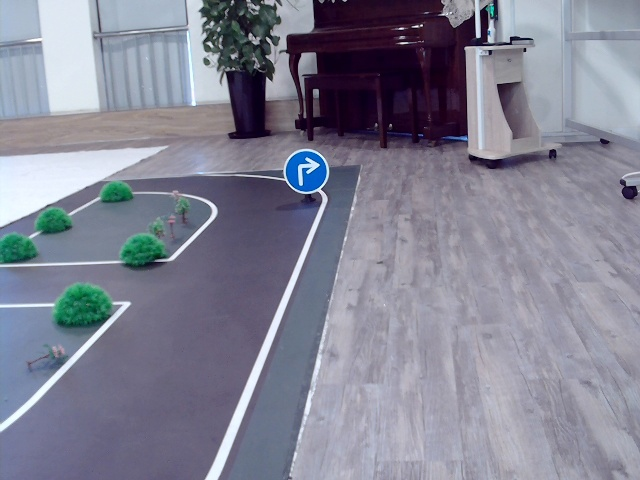turn_right: (296, 158, 318, 185)
